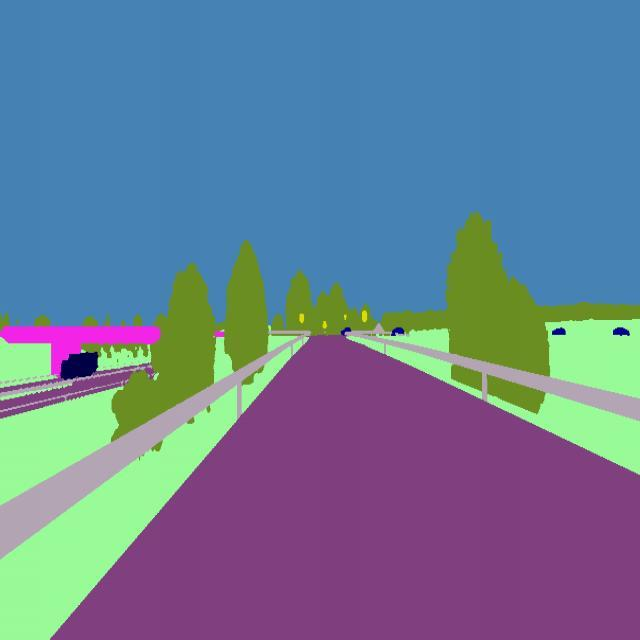safe: (54, 345, 102, 384), (612, 324, 634, 342), (547, 322, 568, 338), (388, 323, 405, 338), (339, 324, 356, 338)
